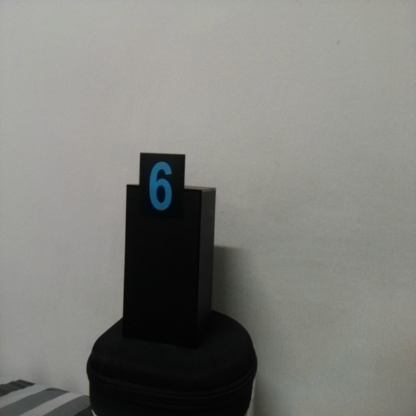id_6: (139, 153, 185, 228)
